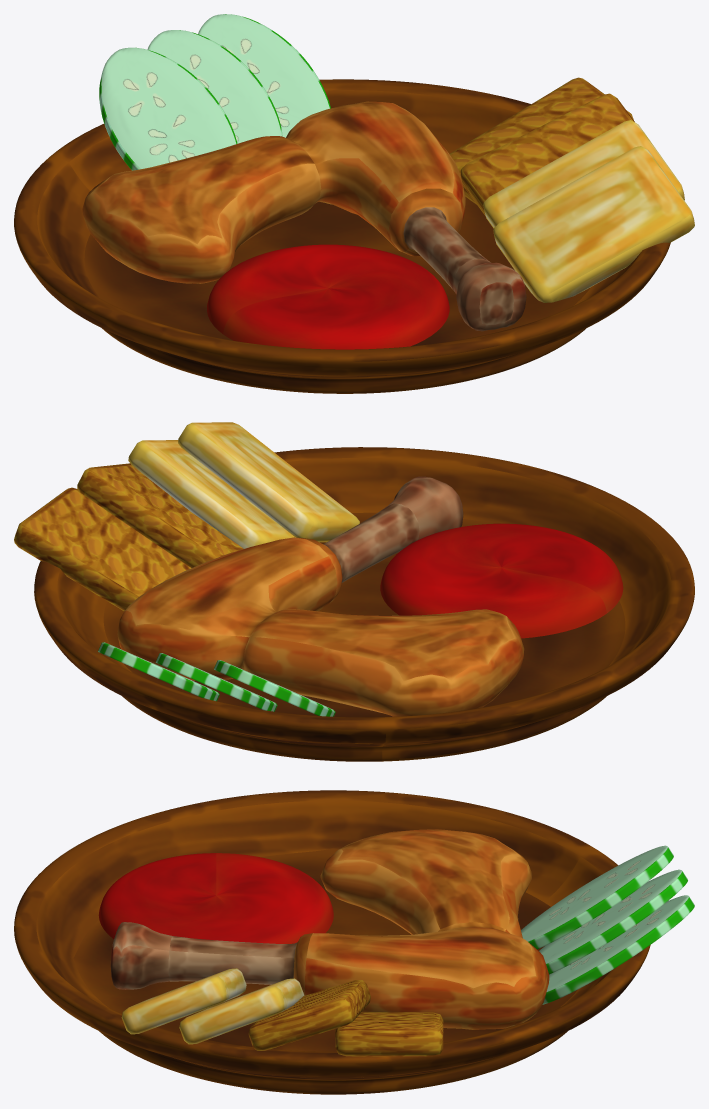
File: spicy_chicken.glb
3 views of the same model, one above another, from view 1: azimuth 30°, elevation 25°; view 2: azimuth 150°, elevation 25°; view 3: azimuth 270°, elevation 25° (orthographic). The views are drawn at different scales.
Visible parts, largest first — view 1: Object_3, Object_2, Object_7, Object_5, Object_4, Object_6; view 2: Object_3, Object_2, Object_4, Object_6, Object_5, Object_7; view 3: Object_3, Object_2, Object_4, Object_7, Object_6, Object_5.
Part boxes in pixels (<box>): Object_3: <box>14,79,670,393</box>; Object_2: <box>82,101,526,331</box>; Object_7: <box>99,14,330,170</box>; Object_5: <box>483,120,694,302</box>; Object_4: <box>207,244,449,349</box>; Object_6: <box>450,77,634,216</box>; Object_3: <box>34,447,694,761</box>; Object_2: <box>117,476,524,716</box>; Object_4: <box>380,523,623,638</box>; Object_6: <box>14,463,243,610</box>; Object_5: <box>128,422,359,548</box>; Object_7: <box>98,642,335,716</box>; Object_3: <box>14,790,650,1094</box>; Object_2: <box>110,829,549,1029</box>; Object_4: <box>98,853,333,943</box>; Object_7: <box>521,845,694,1004</box>; Object_6: <box>248,980,443,1056</box>; Object_5: <box>121,968,304,1044</box>.
Size of the model in its own units: 1.91 by 0.3864 by 2.
Materials: 6 (6 with a texture image).
